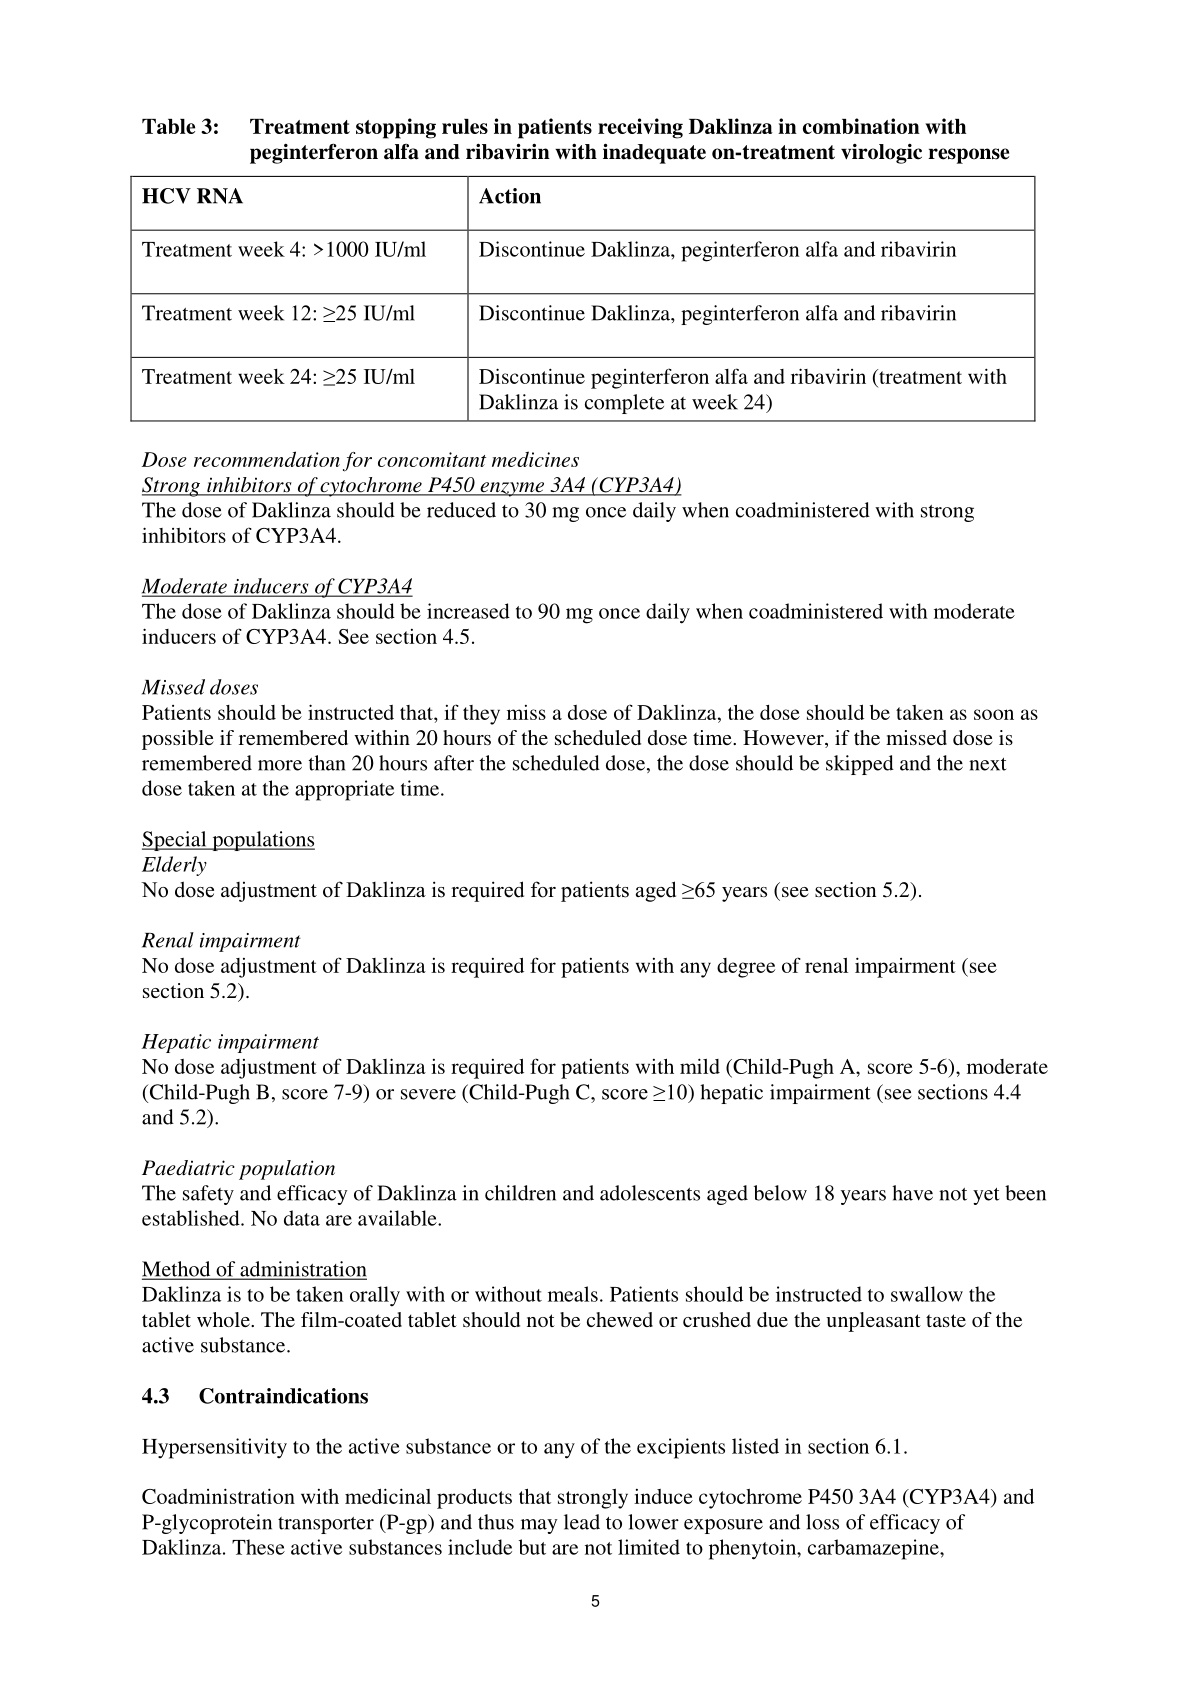full_lined: (129, 174, 1038, 423)
